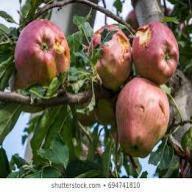apple: (118, 80, 172, 152), (13, 22, 72, 84), (131, 18, 182, 82), (89, 22, 132, 88)
